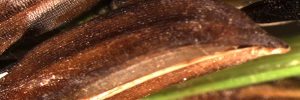RiceSheathBrownRot: (1, 1, 300, 74)
